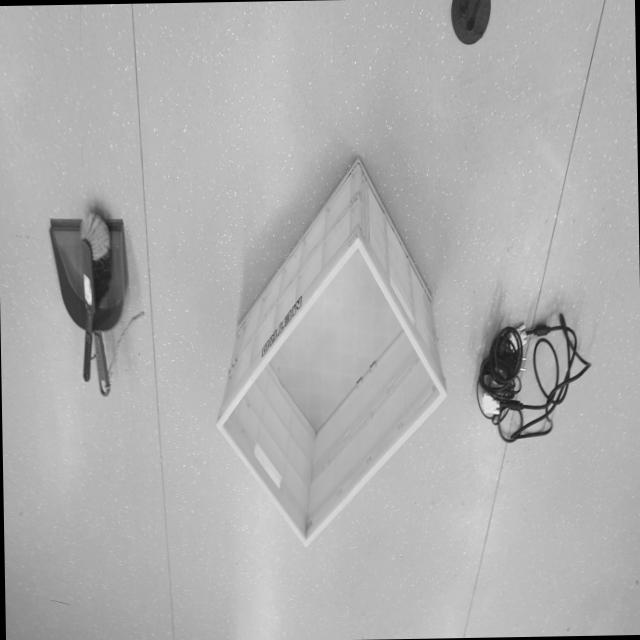box: (210, 133, 461, 550)
